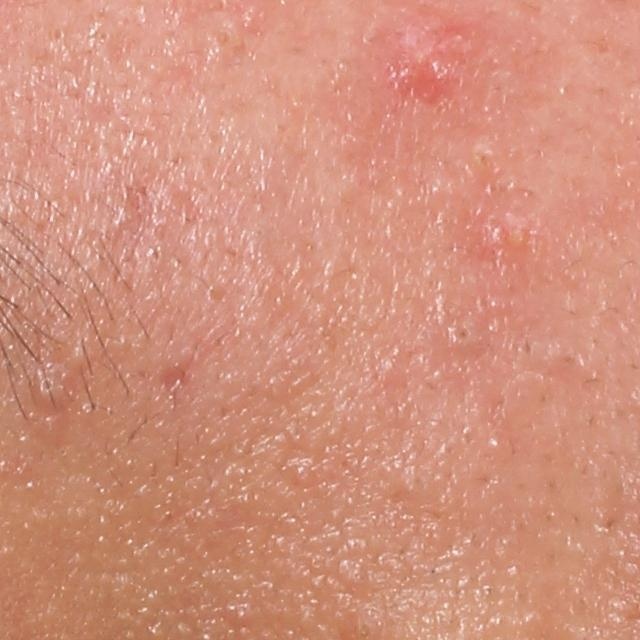comedo: (27, 367, 68, 414), (451, 320, 477, 346), (43, 23, 69, 48)
